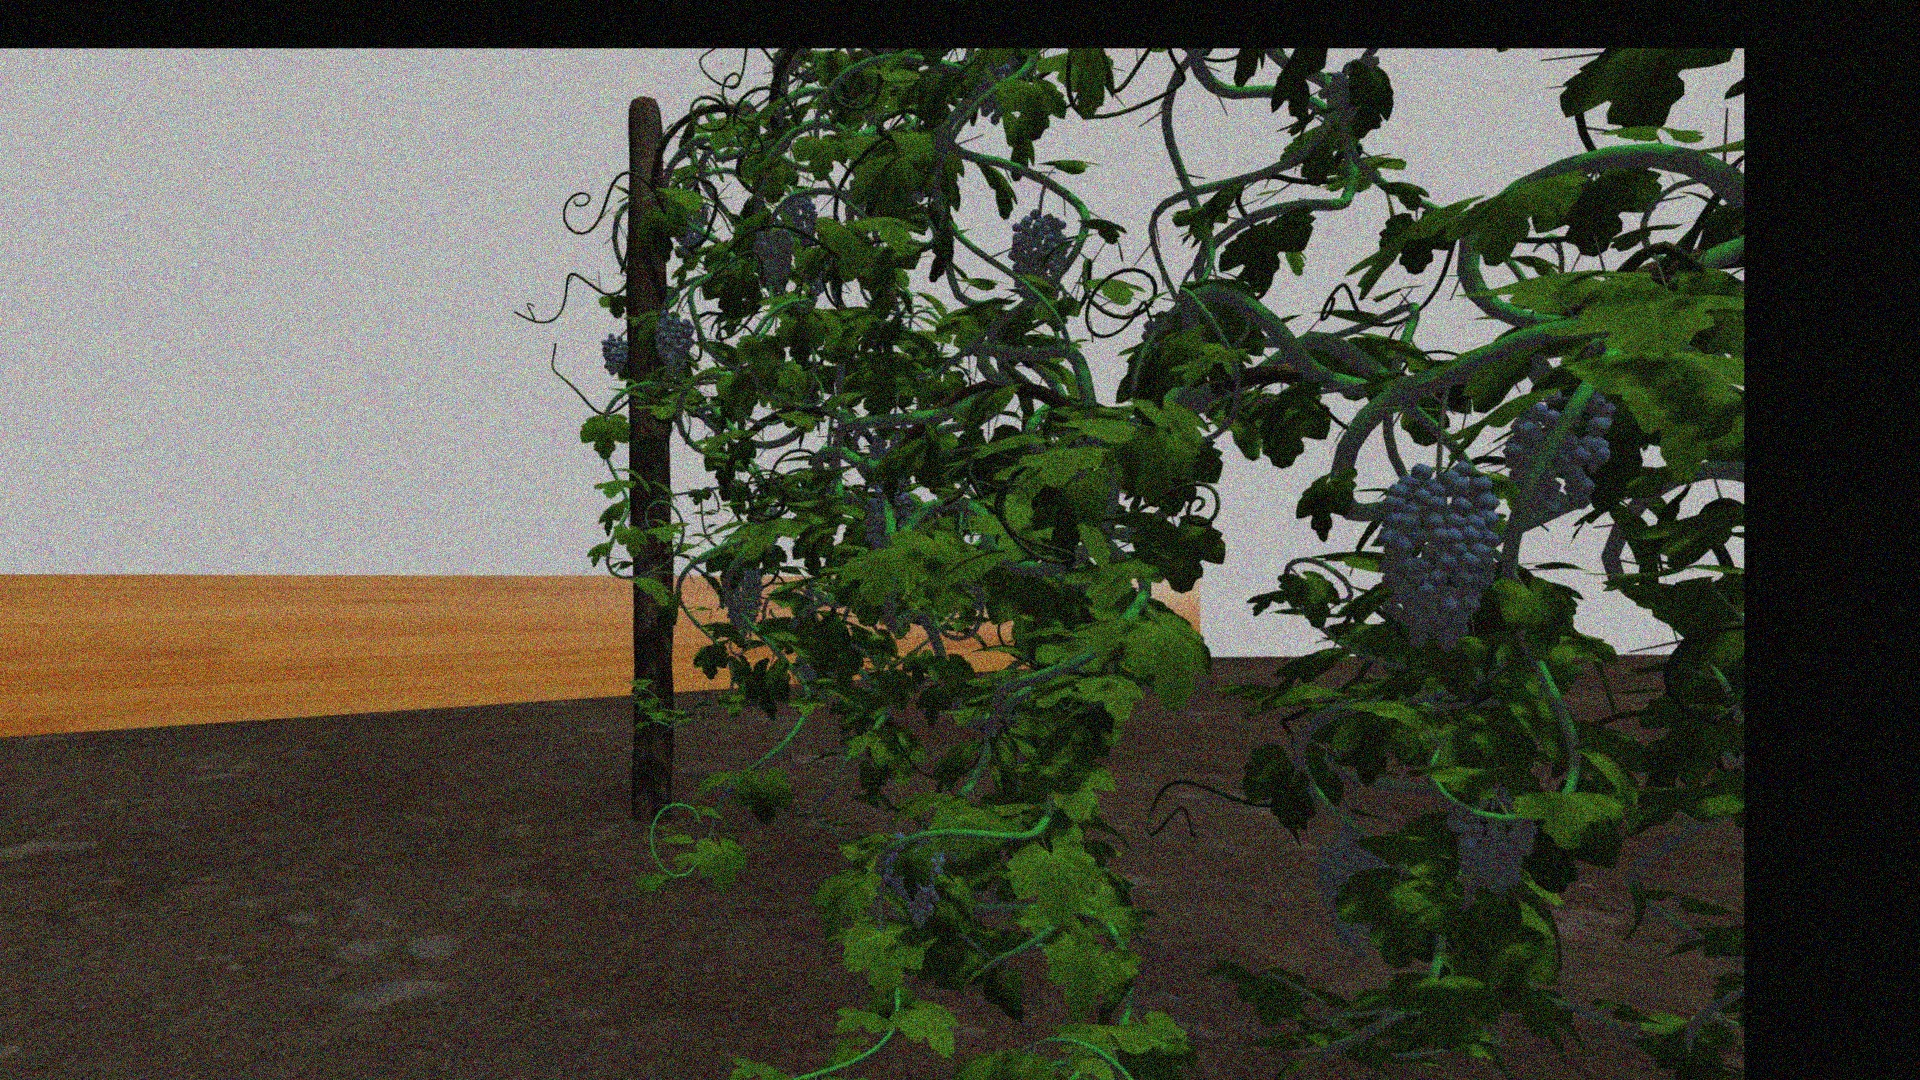grape: (1378, 464, 1505, 653), (1509, 390, 1615, 525), (1313, 837, 1393, 969), (1445, 798, 1535, 901), (884, 837, 944, 927), (1010, 210, 1069, 293), (654, 311, 698, 377), (723, 568, 766, 632), (752, 229, 793, 286), (783, 196, 819, 244), (600, 332, 630, 375)
